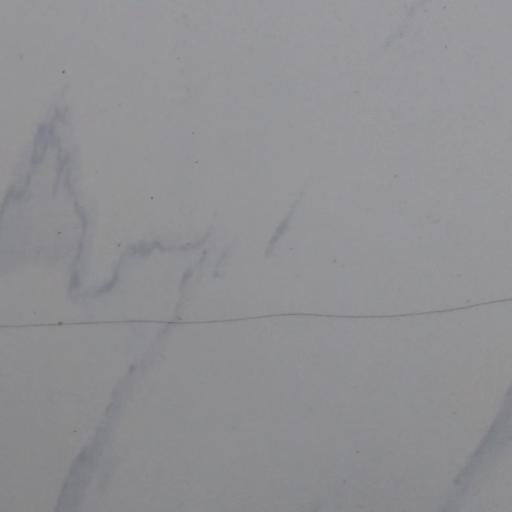minor_crack: (0, 280, 512, 345)
